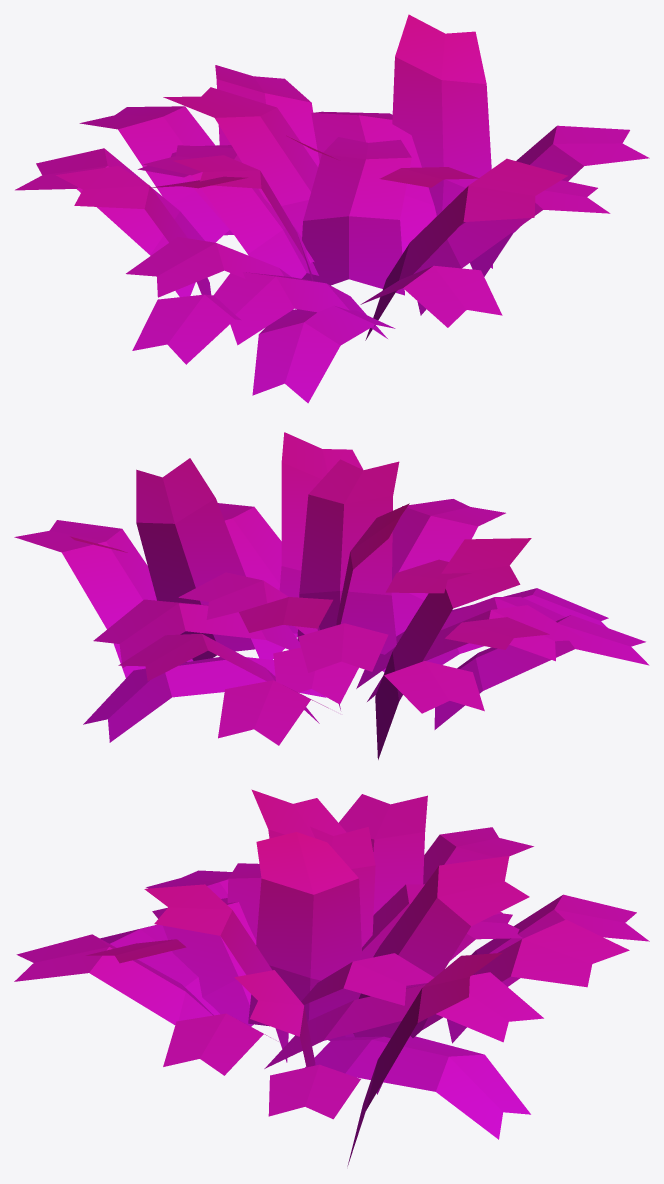
File: SM_Plant_Undergrowth_01.gltf
3 renders of one model, top to bottom at view 1: azimuth 30°, elevation 25°; view 2: azimuth 150°, elevation 25°; view 3: azimuth 270°, elevation 25°, orthographic. The views are drawn at different scales.
Parts seen in each view (by area): view 1: SM_Plant_Undergrowth_01; view 2: SM_Plant_Undergrowth_01; view 3: SM_Plant_Undergrowth_01.
Part boxes in pixels (left/top/right/bottom): SM_Plant_Undergrowth_01: left=15, top=14, right=649, bottom=403; SM_Plant_Undergrowth_01: left=14, top=432, right=649, bottom=759; SM_Plant_Undergrowth_01: left=14, top=789, right=649, bottom=1166.
Size of the model in its own units: 1.35 by 0.4778 by 1.26.
